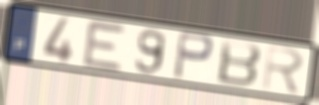4: (41, 15, 77, 65)
9: (132, 28, 167, 75)
B: (215, 38, 264, 89)
E: (81, 17, 130, 73)
P: (171, 30, 217, 82)
R: (260, 43, 307, 96)
